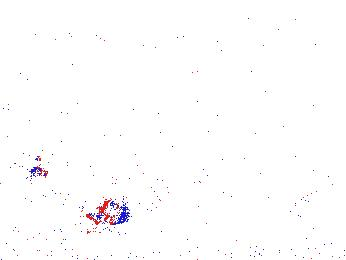flame jellyfish: (86, 170, 172, 226), (6, 154, 63, 217), (261, 154, 319, 211)
